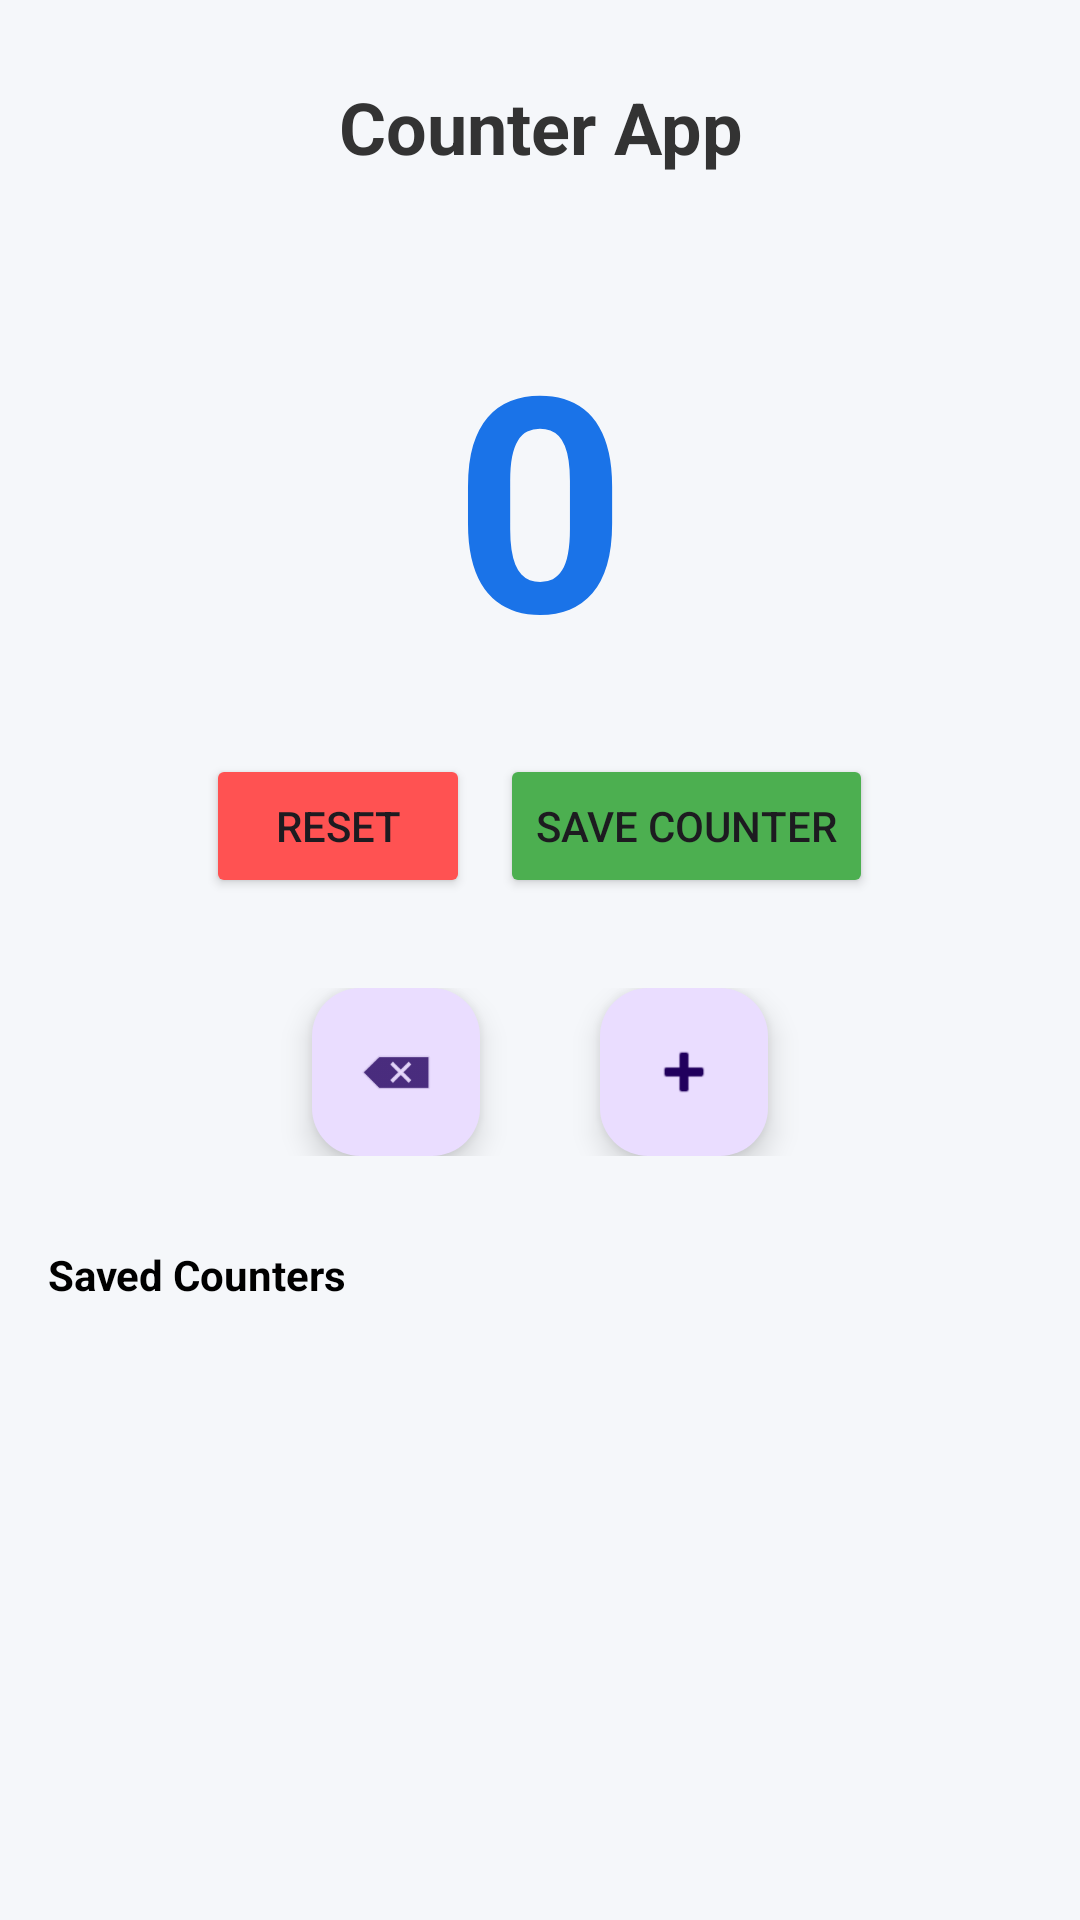

Where icons sit on this 1080 x 1920 app screen, as (x1, y1, x2, y2):
add: (600, 988, 768, 1156)
delete: (312, 988, 480, 1156)
